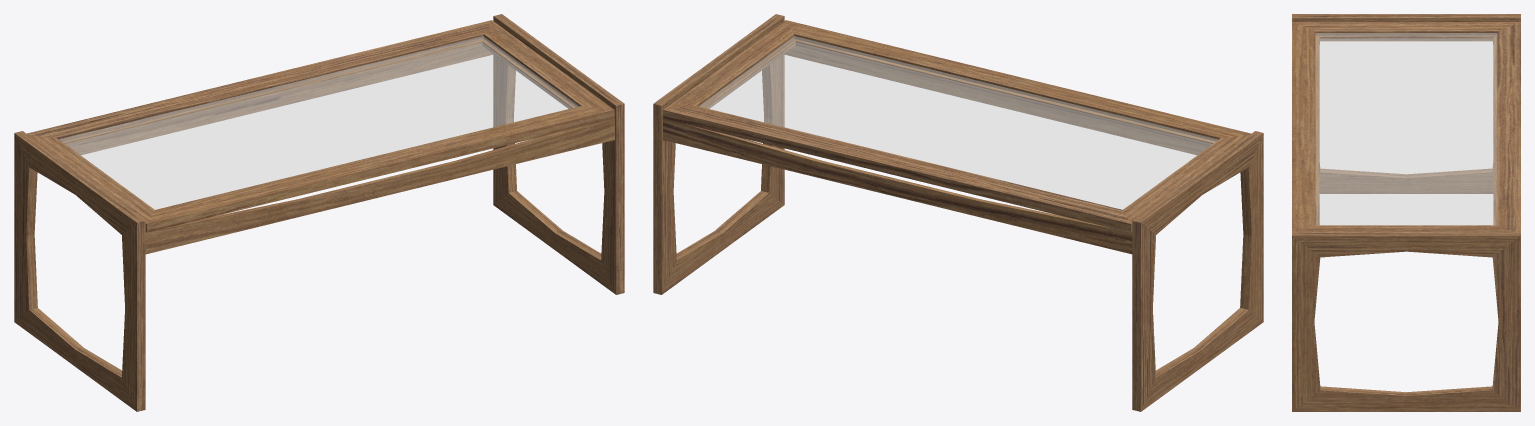
The picture shows the model from 3 angles, left to right: view 1: azimuth 30°, elevation 25°; view 2: azimuth 150°, elevation 25°; view 3: azimuth 270°, elevation 25°; orthographic projection. The views are drawn at different scales.
Visible parts, largest first — view 1: Glass_4, TableTop_0, TableTopSides_1, LegLeft_3, LegRight_2; view 2: Glass_4, TableTop_0, TableTopSides_1, LegLeft_3, LegRight_2; view 3: Glass_4, LegRight_2, TableTop_0, LegLeft_3.
Boxes of the visible parts, box(x1,y1,x2,y2) form: Glass_4: box(59, 36, 578, 209); TableTop_0: box(27, 20, 614, 232); TableTopSides_1: box(69, 46, 614, 254); LegLeft_3: box(14, 131, 145, 411); LegRight_2: box(493, 14, 624, 294); Glass_4: box(699, 36, 1218, 209); TableTop_0: box(663, 20, 1250, 232); TableTopSides_1: box(663, 46, 1208, 254); LegLeft_3: box(1132, 131, 1263, 411); LegRight_2: box(653, 14, 784, 294); Glass_4: box(1315, 33, 1497, 225); LegRight_2: box(1292, 232, 1520, 411); TableTop_0: box(1292, 22, 1520, 231); LegLeft_3: box(1292, 14, 1520, 193).
Size of the model in its own units: 1.15 by 0.425 by 0.5.
3 materials, 2 textured.
